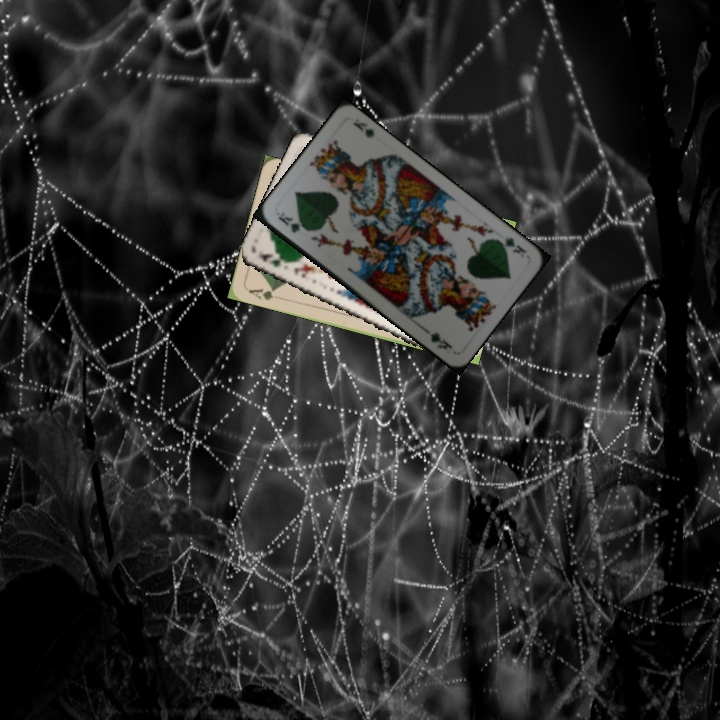GA: (244, 284, 284, 303)
GK: (492, 233, 529, 256), (255, 249, 293, 270), (274, 212, 303, 236)
